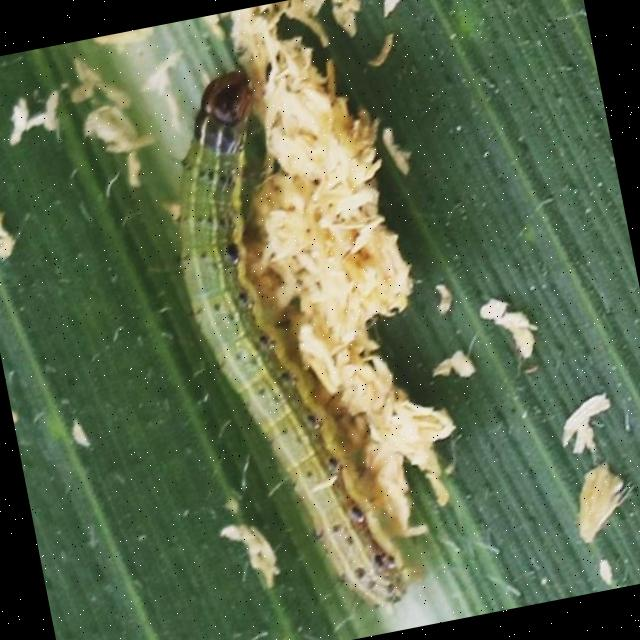worm: (143, 56, 422, 639), (183, 68, 267, 165)
